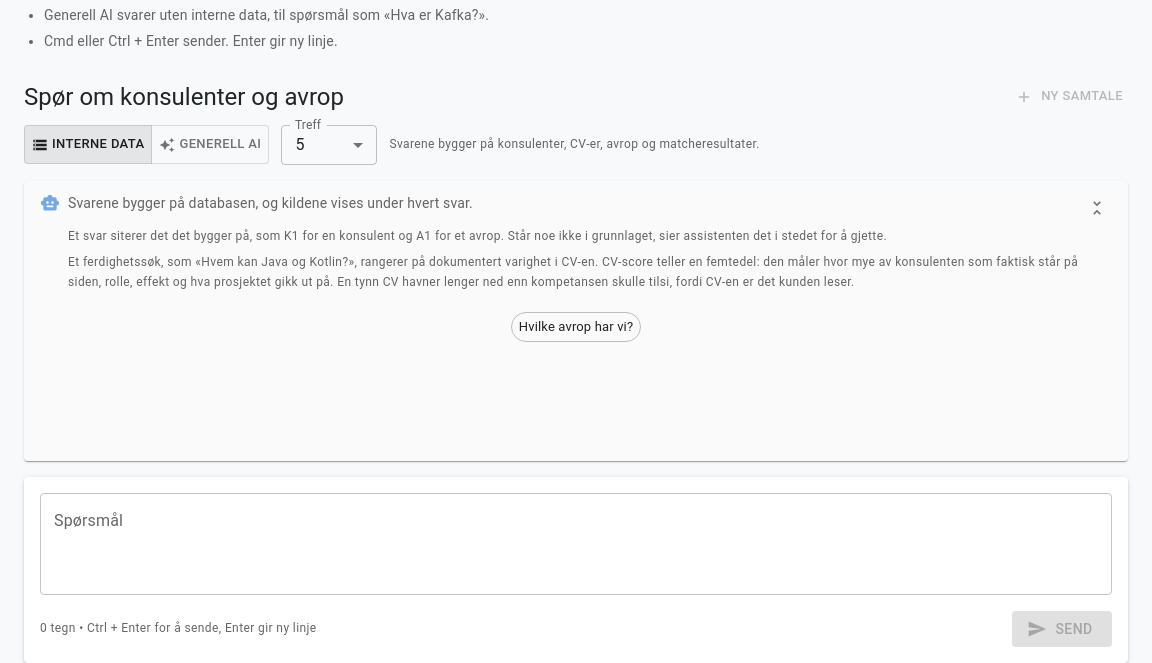
Test: ChatAssistantPage › shows which model answered, and says so when none did
The image size is (1152, 663).
(page scrolled)
Replace the text in the text box labelled "Spørsmål" with "Hva kan Thomas Andersen best?" at point(576, 544), box [54,509,1098,578]
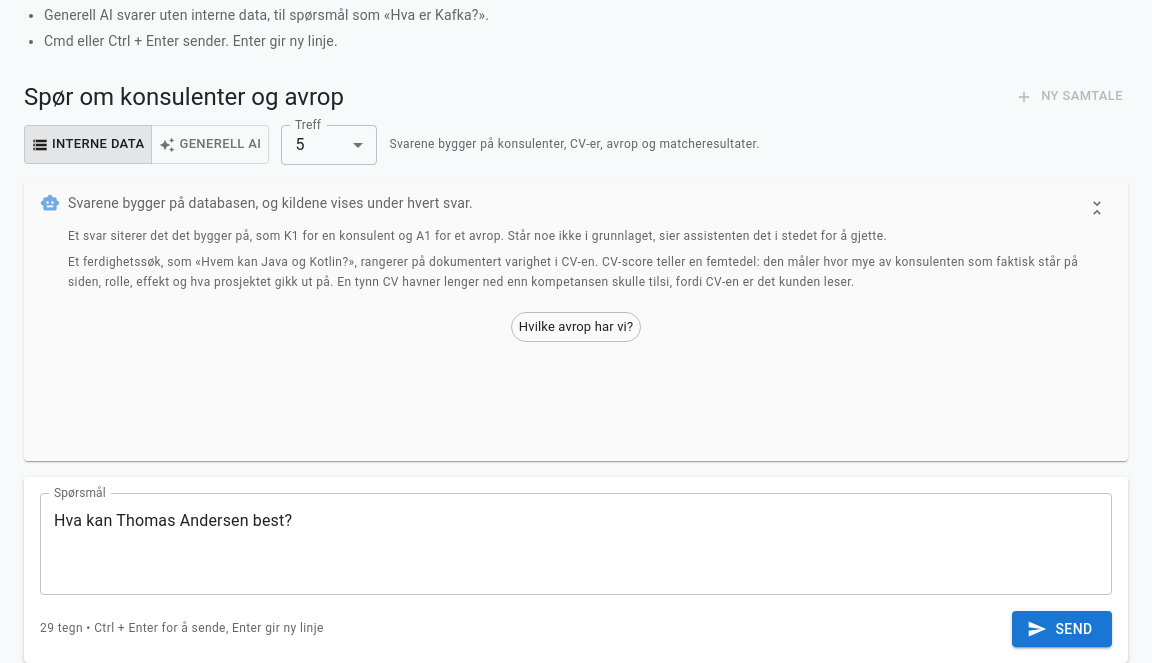
Click the button "Send" at point(1062, 629), box [1012,611,1112,647]
(page scrolled)
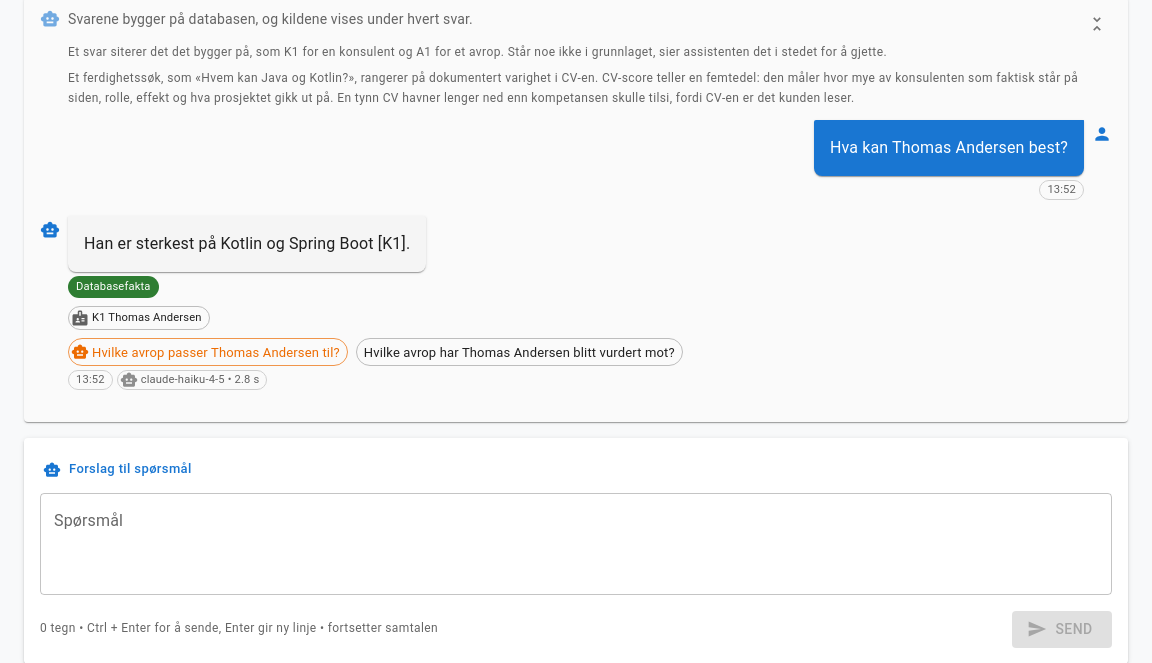
Check: the text "claude-haiku-4-5 • 2.8 s" is shown, box [134,372,266,389]
Replace the text in the text box labelled "Spørsmål" with "Hva er meningen med livet?" at point(576, 544), box [54,510,1098,579]
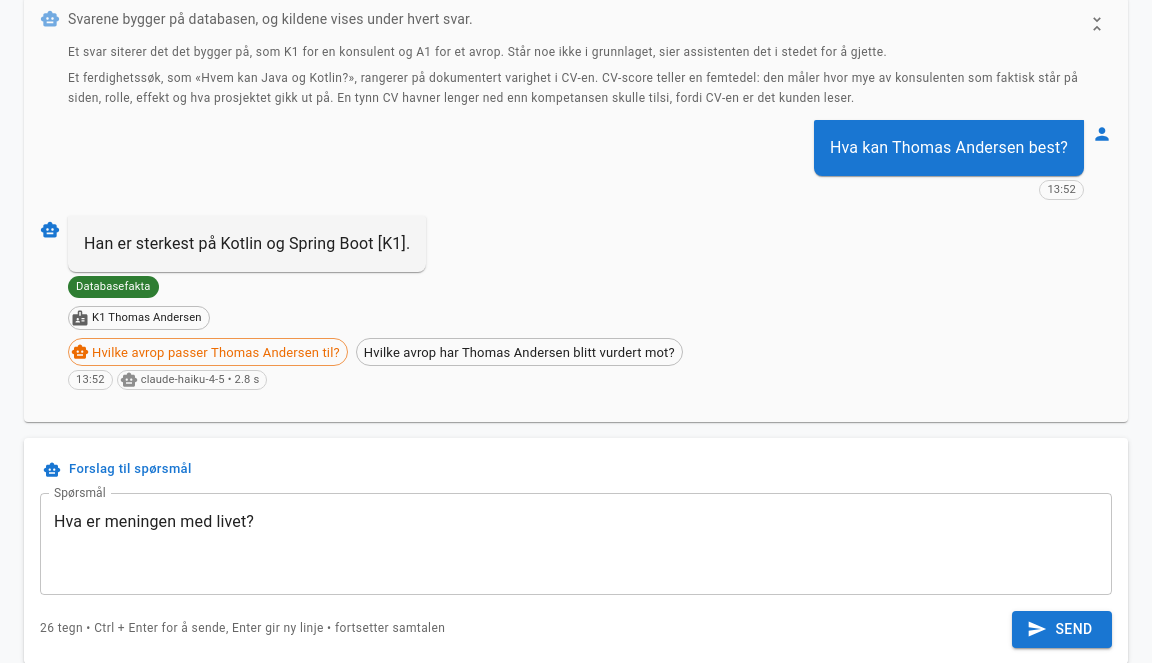
Click the button "Send" at point(1062, 629), box [1012,611,1112,648]
(page scrolled)
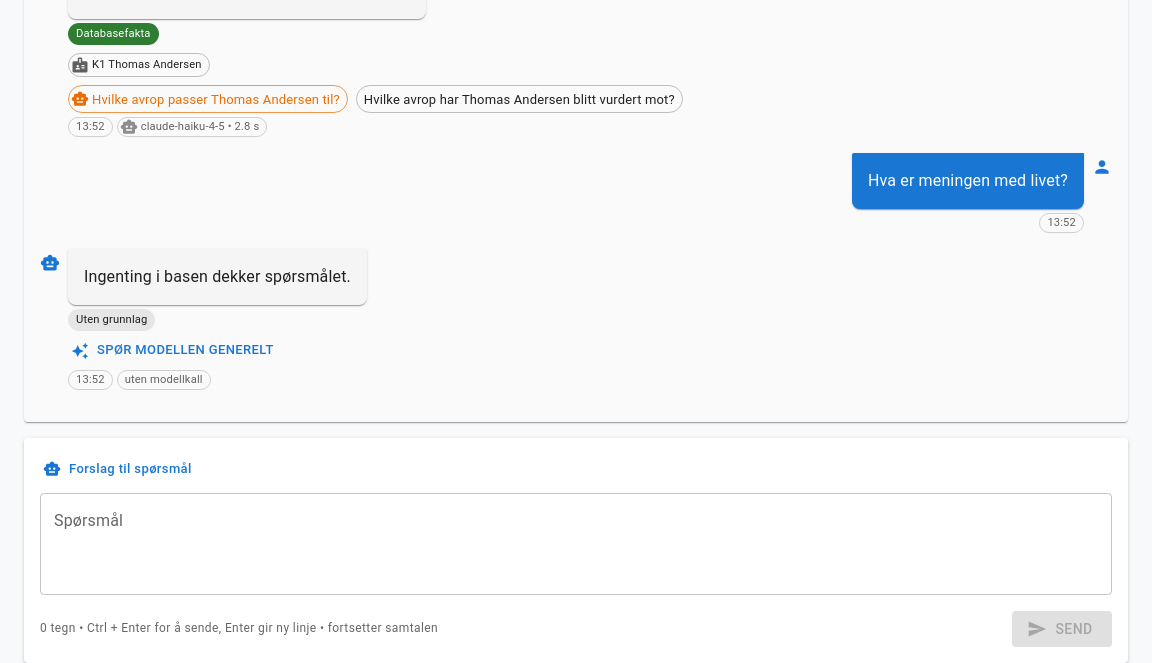
Check: the text "uten modellkall" is shown, box [125,373,203,386]
